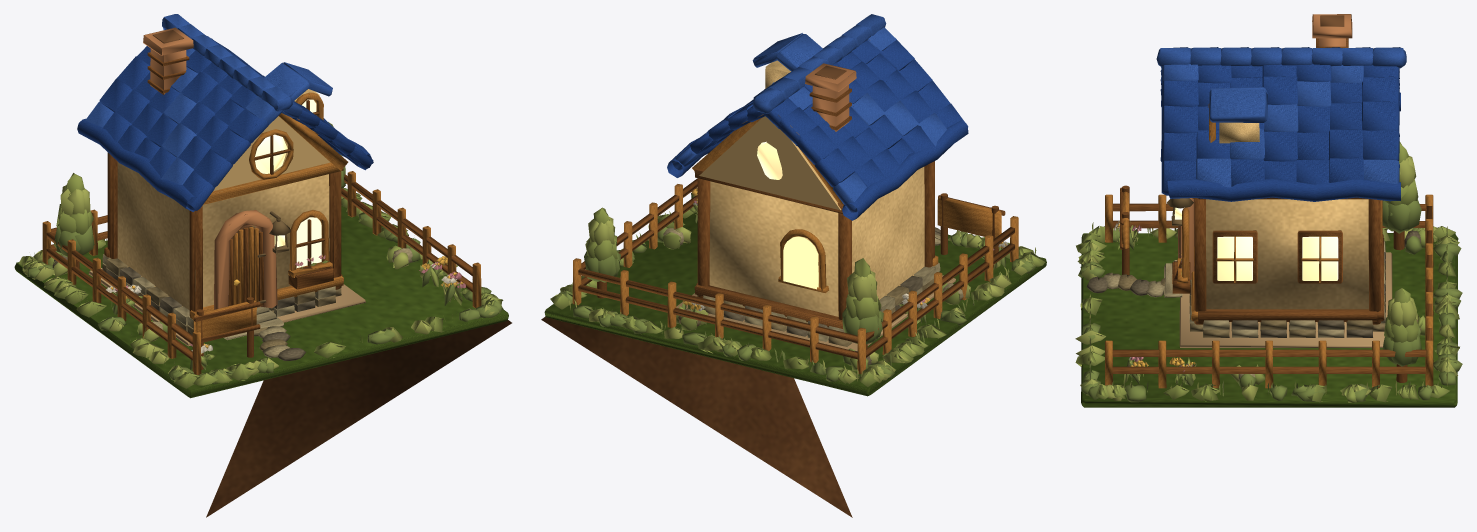
File: stage-4-low.glb
3 views of the same model, side by side, from view 1: azimuth 30°, elevation 25°; view 2: azimuth 150°, elevation 25°; view 3: azimuth 270°, elevation 25° (orthographic). The views are drawn at different scales.
Visible parts, largest first — view 1: Surface_Moss lawn, Surface_Felt blue, Surface_Ochre earth, Surface_Warm lime plaster, Surface_Golden end grain, Surface_Honey wood, Surface_Felt blue highlight, Surface_Foliage 1, Surface_Terracotta, Surface_Foliage 0, Surface_Foliage 2, Surface_Stone 1 (+4 smaller); view 2: Surface_Warm lime plaster, Surface_Felt blue, Surface_Ochre earth, Surface_Honey wood, Surface_Moss lawn, Surface_Golden end grain, Surface_Felt blue highlight, Surface_Foliage 1, Surface_Foliage 0, Surface_Foliage 2, Surface_Warm window, Surface_Terracotta (+4 smaller); view 3: Surface_Felt blue, Surface_Moss lawn, Surface_Honey wood, Surface_Warm lime plaster, Surface_Felt blue highlight, Surface_Foliage 1, Surface_Golden end grain, Surface_Foliage 0, Surface_Foliage 2, Surface_Garden soil, Surface_Warm window, Surface_Stone 1 (+3 smaller).
Boxes of the visible parts, left/top/right/bottom form: Surface_Moss lawn: left=14, top=206, right=508, bottom=398; Surface_Felt blue: left=77, top=29, right=373, bottom=211; Surface_Ochre earth: left=206, top=266, right=511, bottom=517; Surface_Warm lime plaster: left=117, top=89, right=330, bottom=310; Surface_Golden end grain: left=42, top=92, right=481, bottom=374; Surface_Honey wood: left=46, top=52, right=472, bottom=369; Surface_Felt blue highlight: left=85, top=14, right=351, bottom=184; Surface_Foliage 1: left=19, top=122, right=503, bottom=388; Surface_Terracotta: left=143, top=27, right=277, bottom=309; Surface_Foliage 0: left=26, top=166, right=503, bottom=384; Surface_Foliage 2: left=22, top=185, right=499, bottom=382; Surface_Stone 1: left=102, top=248, right=412, bottom=357; Surface_Warm lime plaster: left=699, top=60, right=924, bottom=316; Surface_Felt blue: left=667, top=37, right=968, bottom=220; Surface_Ochre earth: left=541, top=316, right=852, bottom=517; Surface_Honey wood: left=578, top=88, right=1014, bottom=359; Surface_Moss lawn: left=544, top=213, right=1046, bottom=396; Surface_Golden end grain: left=572, top=114, right=1018, bottom=374; Surface_Felt blue highlight: left=672, top=14, right=946, bottom=212; Surface_Foliage 1: left=550, top=204, right=1045, bottom=386; Surface_Foliage 0: left=557, top=193, right=1035, bottom=381; Surface_Foliage 2: left=557, top=217, right=1034, bottom=383; Surface_Warm window: left=757, top=141, right=818, bottom=289; Surface_Terracotta: left=805, top=63, right=856, bottom=131; Surface_Felt blue: left=1160, top=64, right=1400, bottom=201; Surface_Moss lawn: left=1081, top=233, right=1458, bottom=407; Surface_Honey wood: left=1112, top=38, right=1432, bottom=382; Surface_Warm lime plaster: left=1206, top=122, right=1368, bottom=309; Surface_Felt blue highlight: left=1156, top=47, right=1406, bottom=187; Surface_Foliage 1: left=1075, top=141, right=1459, bottom=402; Surface_Golden end grain: left=1105, top=103, right=1433, bottom=388; Surface_Foliage 0: left=1078, top=199, right=1462, bottom=402; Surface_Foliage 2: left=1075, top=156, right=1459, bottom=400; Surface_Garden soil: left=1179, top=252, right=1392, bottom=347; Surface_Warm window: left=1174, top=207, right=1338, bottom=280; Surface_Stone 1: left=1103, top=241, right=1385, bottom=385.
Size of the model in its own units: 7.43 by 9.85 by 7.02.
Materials: 21 (10 with a texture image).
